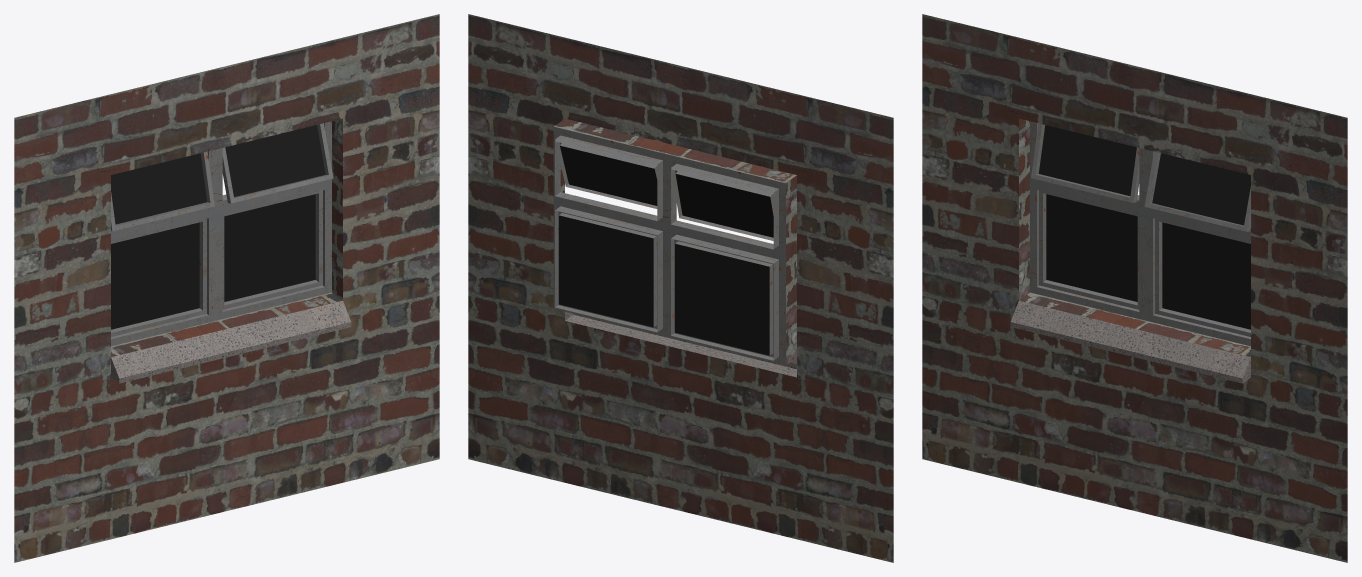
File: window_002_015_14.gltf
3 views of the same model, side by side, from view 1: azimuth 30°, elevation 25°; view 2: azimuth 150°, elevation 25°; view 3: azimuth 330°, elevation 25° (orthographic).
Visible parts, largest first — view 1: Window_002.015_14; view 2: Window_002.015_14; view 3: Window_002.015_14.
Part boxes in pixels (x1,y1,x2,y2): Window_002.015_14: [14, 14, 439, 562]; Window_002.015_14: [468, 14, 893, 562]; Window_002.015_14: [922, 14, 1347, 562].
Bounding box in the file's own units: 2.2 × 2.2 × 0.225.
4 materials, 3 textured.
